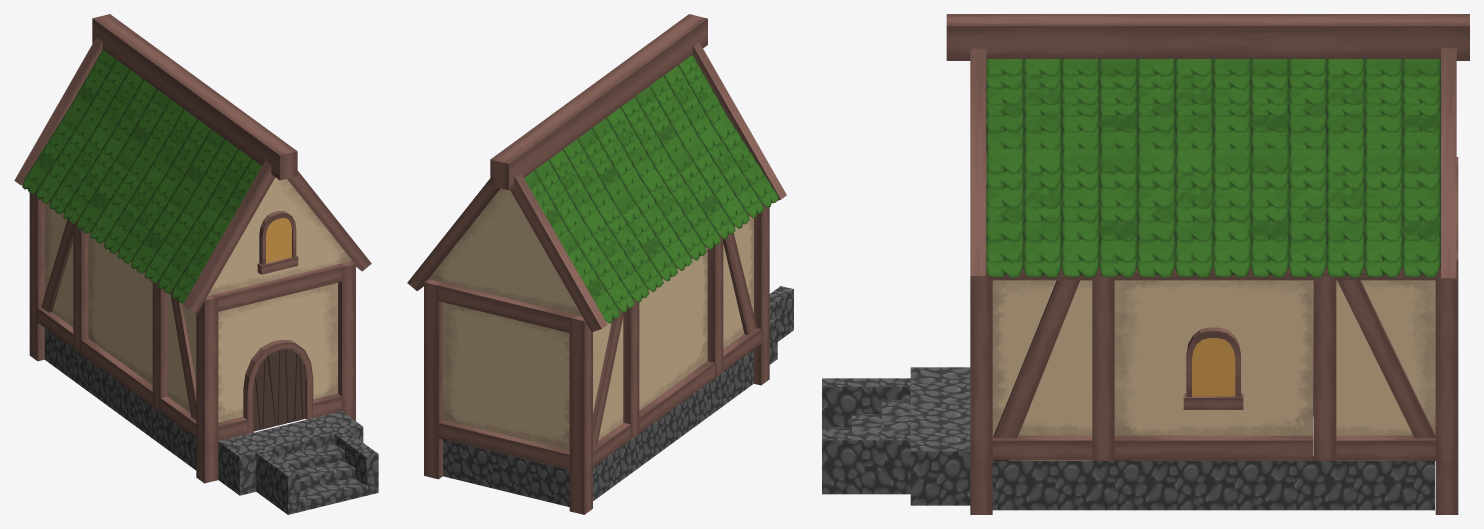
Rendered from Medieval House Design_04.fbx.
3 renders of one model, left to right at view 1: azimuth 30°, elevation 25°; view 2: azimuth 150°, elevation 25°; view 3: azimuth 270°, elevation 25°, orthographic. The views are drawn at different scales.
Parts seen in each view (by area): view 1: Cube.180; view 2: Cube.180; view 3: Cube.180.
Boxes of the visible parts, <box> form: Cube.180: <box>14,14,378,514</box>; Cube.180: <box>407,14,793,514</box>; Cube.180: <box>822,14,1469,514</box>.
Bounding box in the file's own units: 298 × 491 × 651.
Materials: 1 (1 with a texture image).
